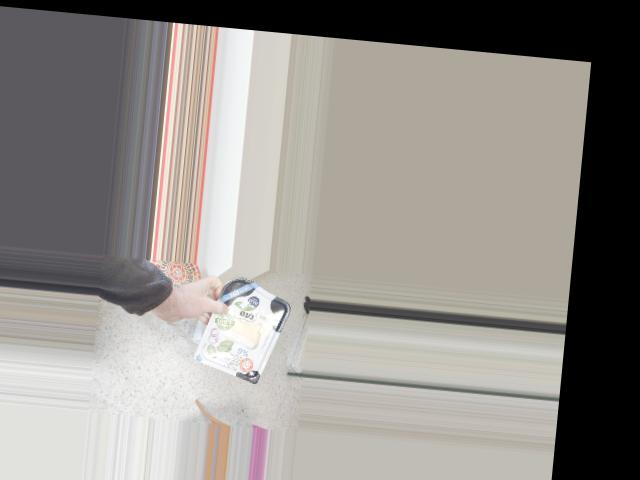cheese: (207, 282, 283, 378)
